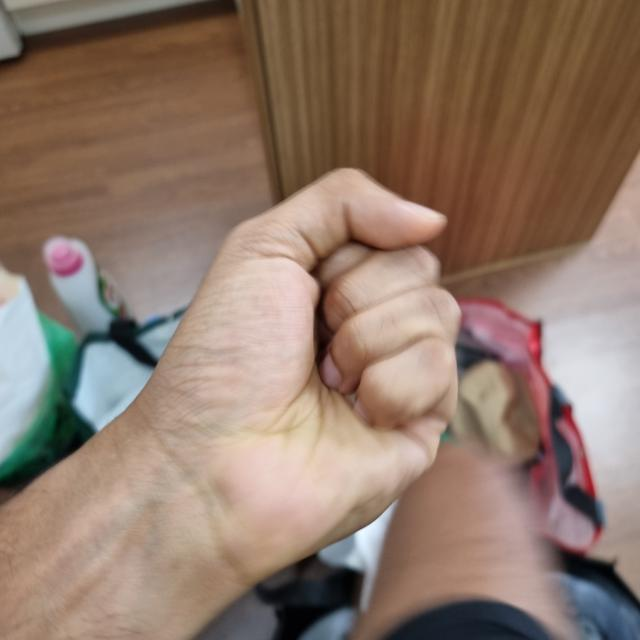Rock: (140, 166, 461, 577)
